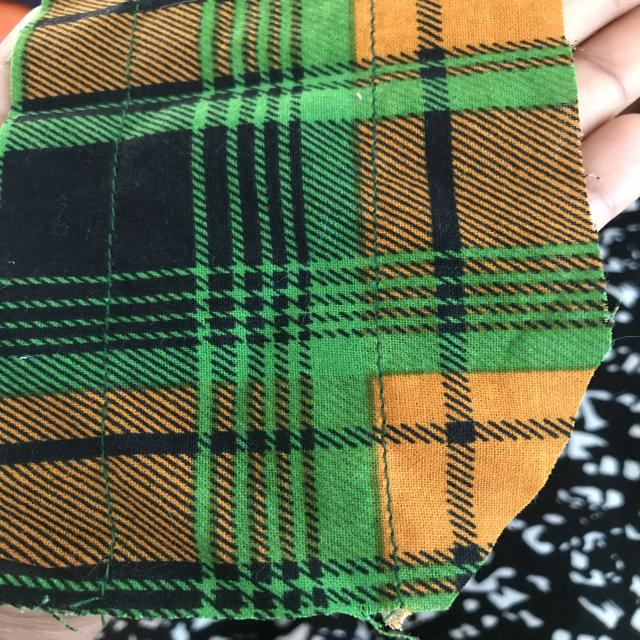good: (87, 167, 145, 253)
